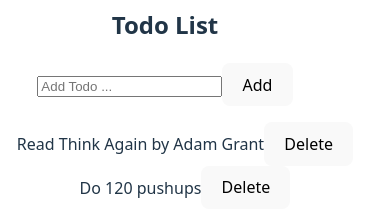
Scenario: todo item can be deleted when button is clicked
Expected: the text "Read Think Again by Adam Grant" is shown, top-left (17, 133), bottom-right (264, 155)
Click the button "Delete" next to "Read Think Again by Adam Grant": x=309, y=144 top-left (264, 122), bottom-right (353, 166)
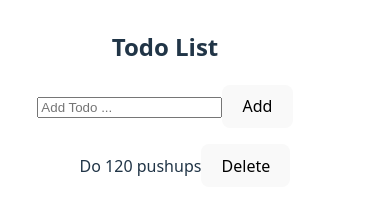
Expected: the text "Read Think Again by Adam Grant" is gone
